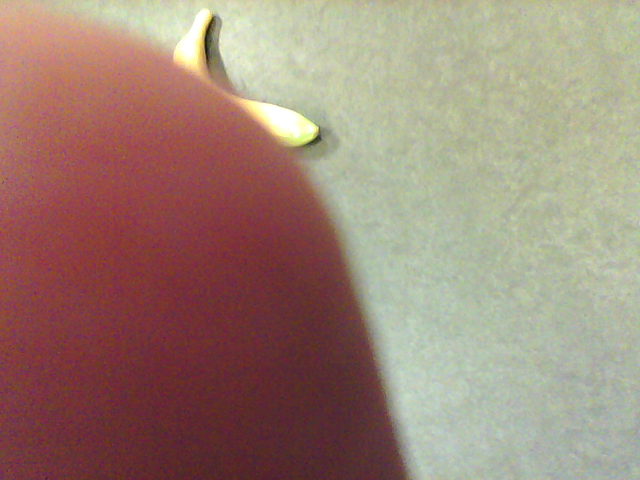banana: (167, 10, 321, 148)
